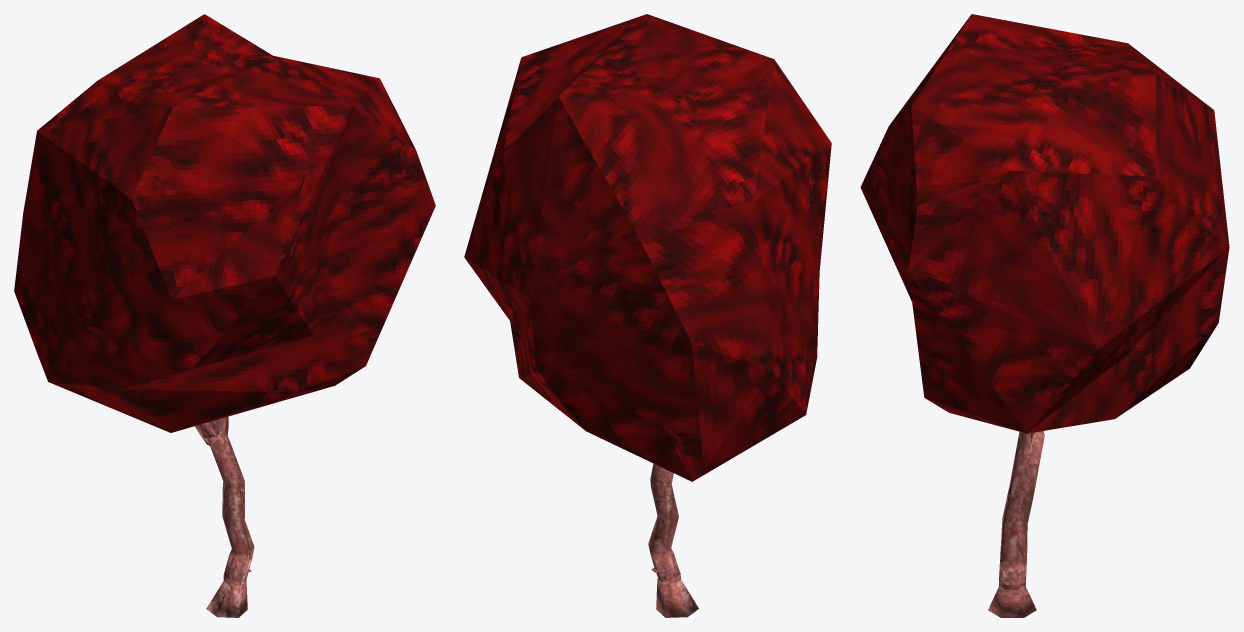
The model's file is tree_red.glb.
3 views of the same model, side by side, from view 1: azimuth 30°, elevation 25°; view 2: azimuth 150°, elevation 25°; view 3: azimuth 270°, elevation 25° (orthographic). The views are drawn at different scales.
Parts seen in each view (by area): view 1: Cube.050; view 2: Cube.050; view 3: Cube.050.
Part boxes in pixels (left/top/right/bottom): Cube.050: left=14, top=14, right=435, bottom=617; Cube.050: left=464, top=14, right=831, bottom=617; Cube.050: left=860, top=14, right=1229, bottom=617.
Size of the model in its own units: 26.69 by 42.98 by 25.73.
2 materials, 2 textured.
